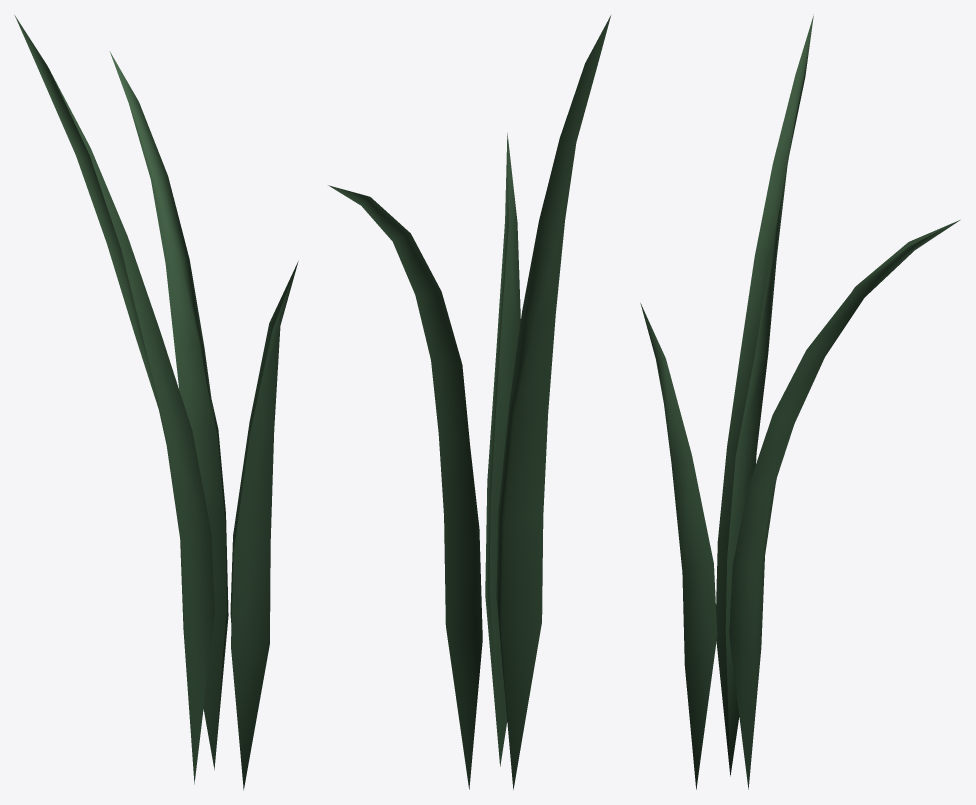
File: trees-grasses-grass-blades_v11.glb
3 renders of one model, left to right at view 1: azimuth 30°, elevation 25°; view 2: azimuth 150°, elevation 25°; view 3: azimuth 270°, elevation 25°, orthographic. The views are drawn at different scales.
Parts seen in each view (by area): view 1: Grass Blades_v11; view 2: Grass Blades_v11; view 3: Grass Blades_v11.
Part boxes in pixels (left/top/right/bottom): Grass Blades_v11: left=14, top=15, right=298, bottom=790; Grass Blades_v11: left=328, top=15, right=610, bottom=789; Grass Blades_v11: left=640, top=14, right=960, bottom=789.
Bounding box in the file's own units: 0.0773 × 0.3 × 0.1244.
